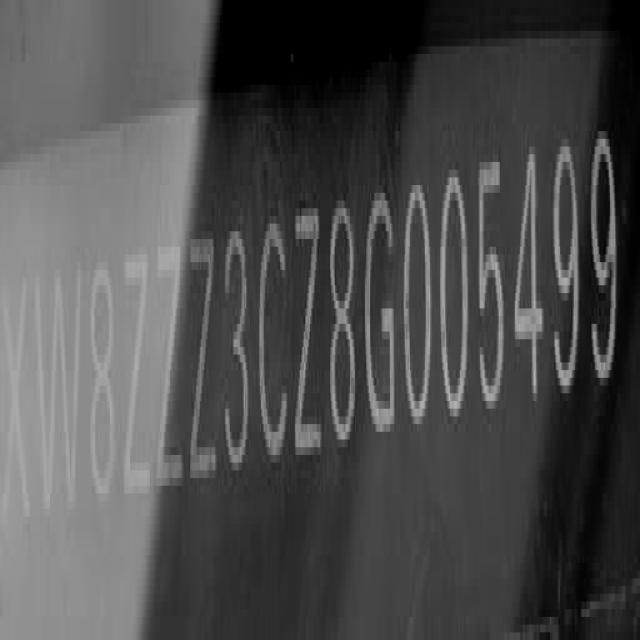0: (403, 174, 435, 438), (438, 169, 470, 431)
3: (223, 222, 252, 488)
4: (511, 137, 546, 413)
5: (475, 147, 505, 426)
8: (328, 192, 356, 458), (91, 258, 118, 517)
9: (590, 124, 622, 397), (553, 138, 583, 410)
C: (258, 213, 290, 477)
G: (366, 182, 400, 444)
W: (36, 266, 82, 534)
X: (0, 273, 30, 549)
Z: (126, 242, 156, 507), (191, 232, 221, 496), (296, 195, 324, 466), (158, 240, 184, 500)
